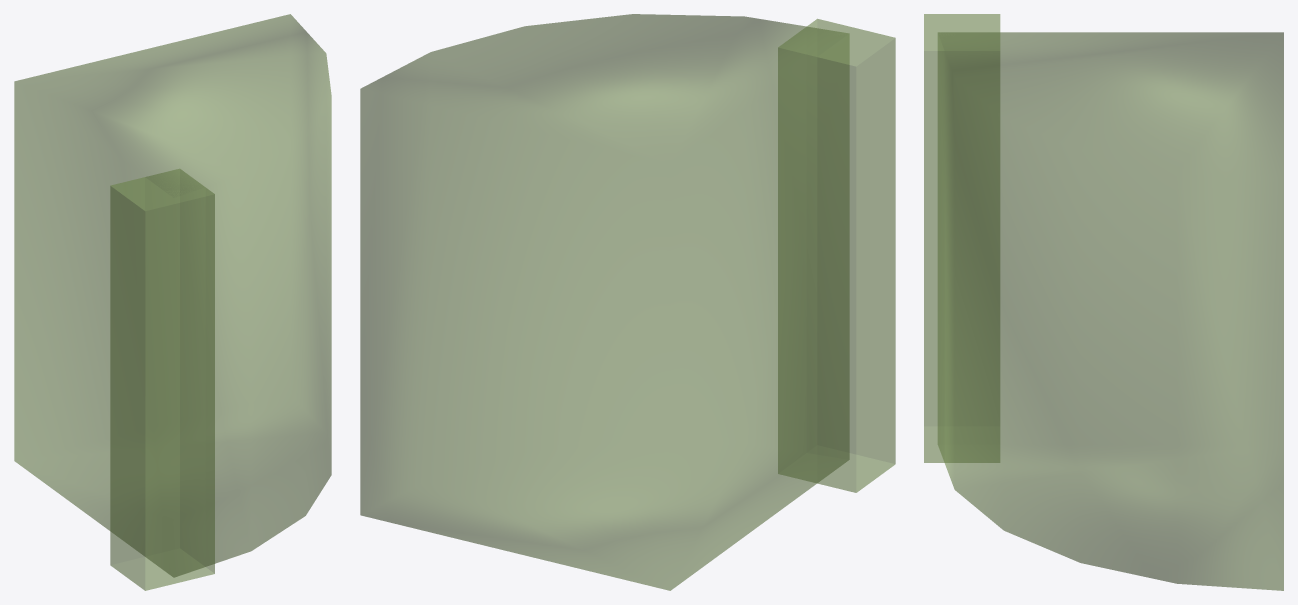
Rendered from bar_angle_COL.fbx.
The picture shows the model from 3 angles, left to right: view 1: azimuth 30°, elevation 25°; view 2: azimuth 150°, elevation 25°; view 3: azimuth 270°, elevation 25°; orthographic projection. The views are drawn at different scales.
Visible parts, largest first — view 1: bar_angle_COL; view 2: bar_angle_COL; view 3: bar_angle_COL.
Boxes of the visible parts, x1,y1,x2,y2 form: bar_angle_COL: (14, 14, 331, 590); bar_angle_COL: (360, 14, 895, 590); bar_angle_COL: (924, 14, 1283, 590).
Size of the model in its own units: 120 by 140 by 111.
